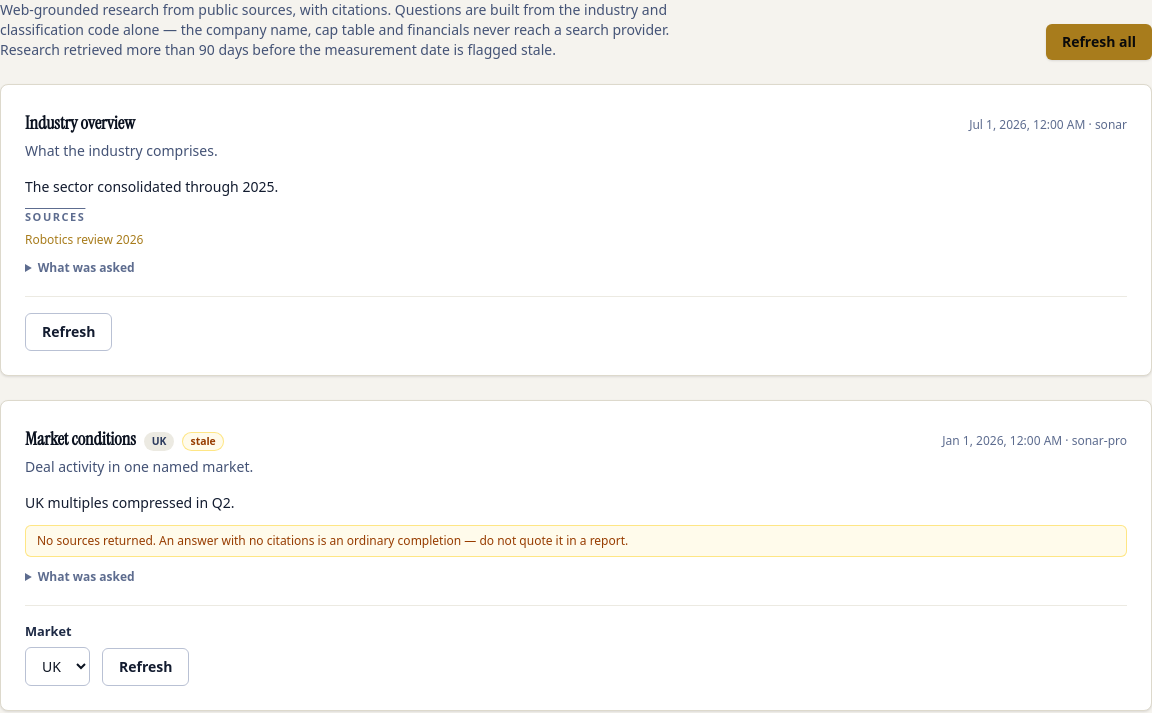
ResearchTab › surfaces a refused run rather than failing silently
Expected: the text "The sector consolidated through 2025." is shown, left=25, top=177, right=278, bottom=196
Click the button "Refresh" below "Robotics review 2026".
click(69, 332)  # box left=25, top=312, right=112, bottom=350
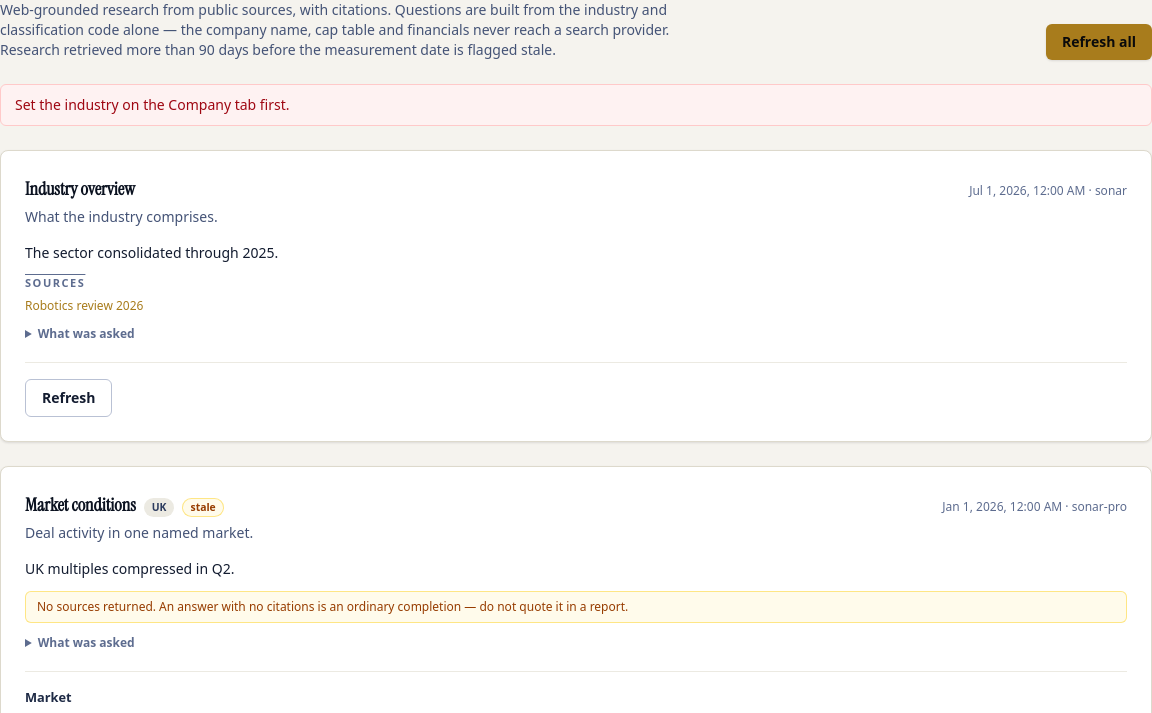
Now the text "Set the industry on the Company tab first." is shown, box left=0, top=84, right=1151, bottom=126
